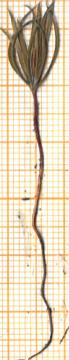flower: (0, 0, 65, 92)
root: (24, 200, 56, 360)
stem: (29, 93, 46, 201)
